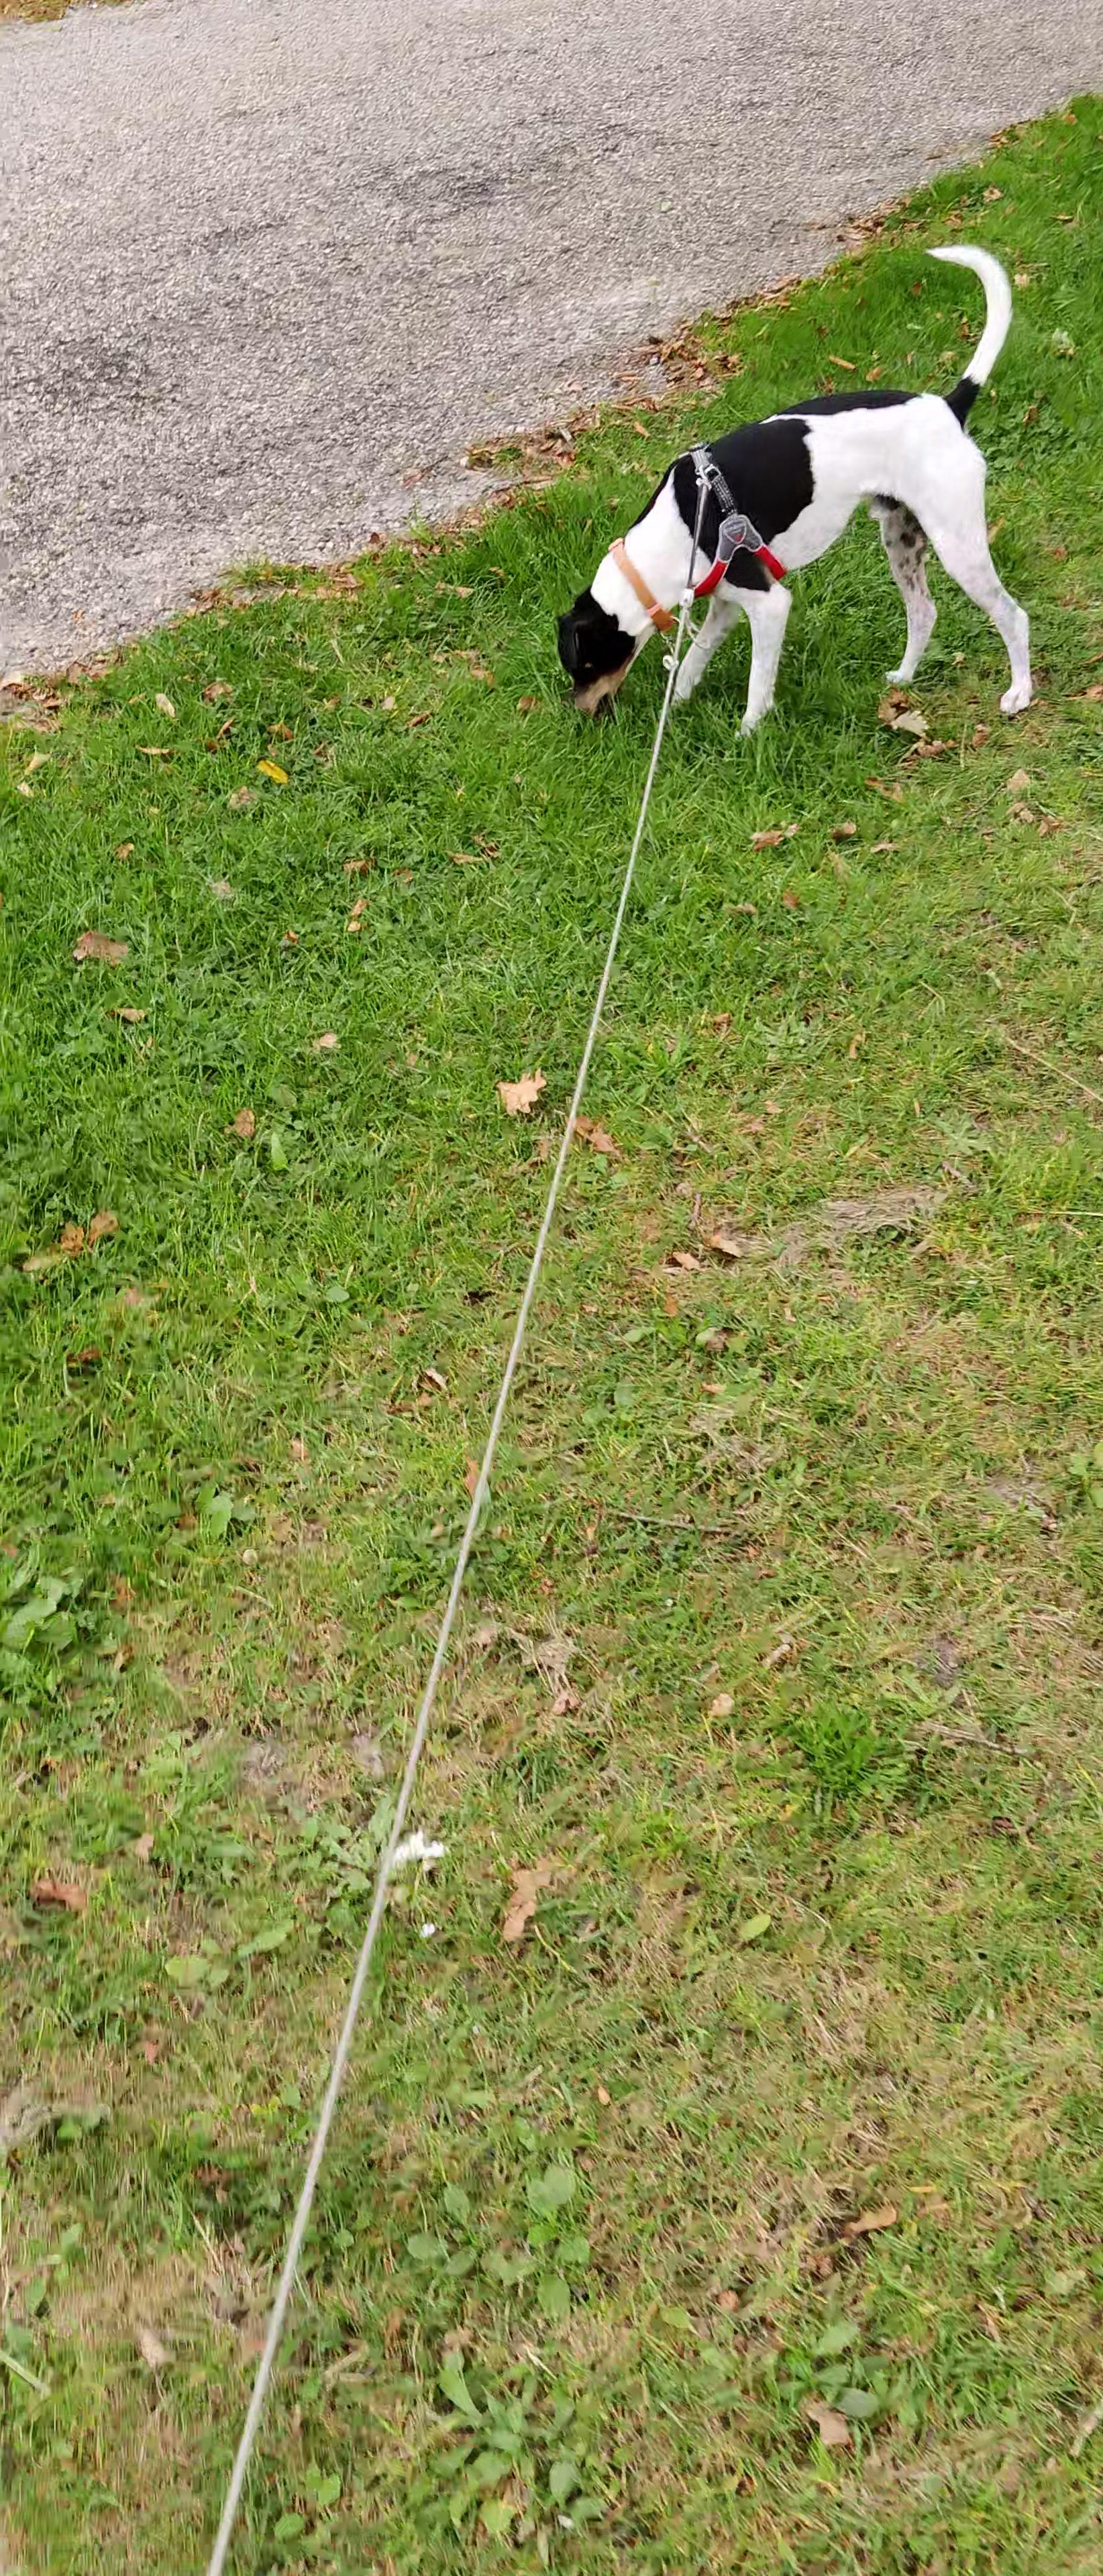Dog: (529, 232, 1062, 734)
